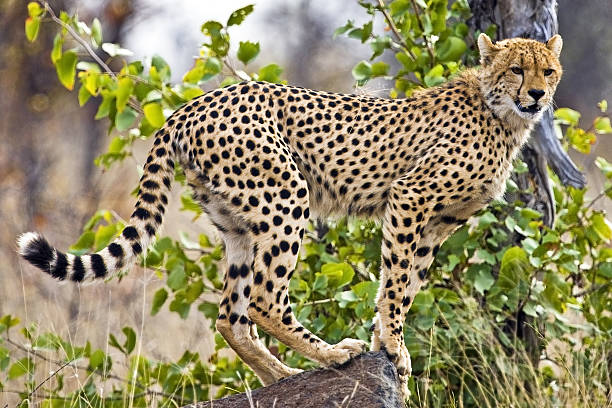cheetah: (471, 16, 569, 141)
